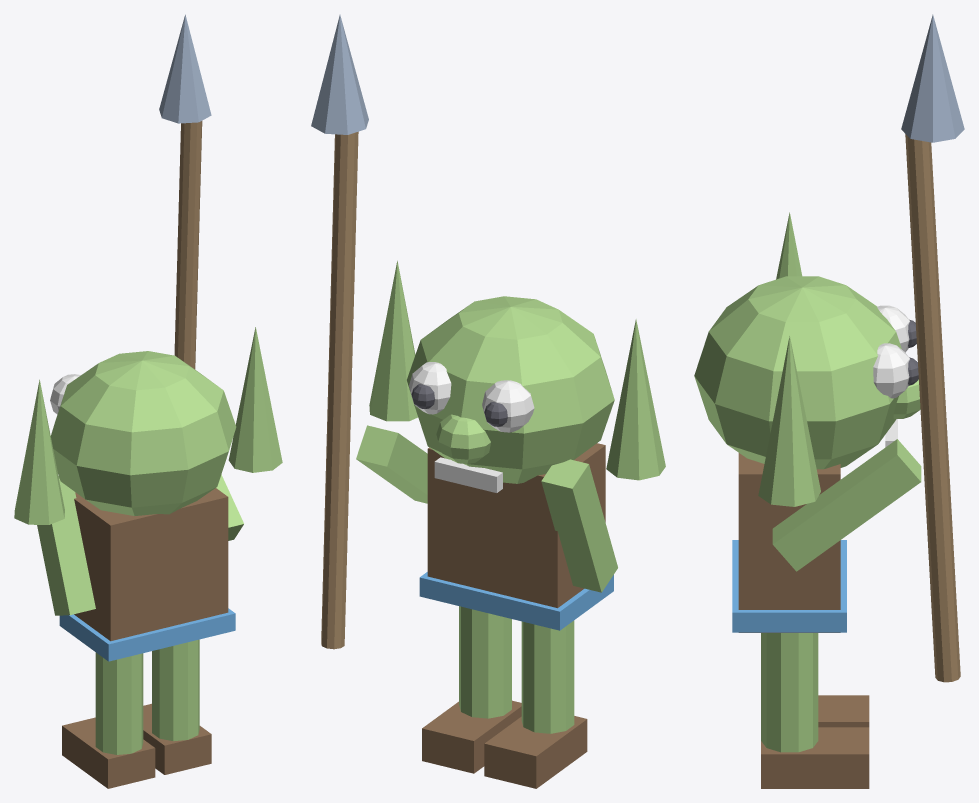
Rendered from spear_goblins.glb.
3 renders of one model, left to right at view 1: azimuth 30°, elevation 25°; view 2: azimuth 150°, elevation 25°; view 3: azimuth 270°, elevation 25°, orthographic. The views are drawn at different scales.
Parts seen in each view (by area): view 1: spear_goblins; view 2: spear_goblins; view 3: spear_goblins.
Boxes of the visible parts, x1,y1,x2,y2 form: spear_goblins: (14,14,282,788); spear_goblins: (311,14,665,788); spear_goblins: (694,14,964,788).
Bounding box in the file's own units: 1.12 × 2.78 × 0.85.
